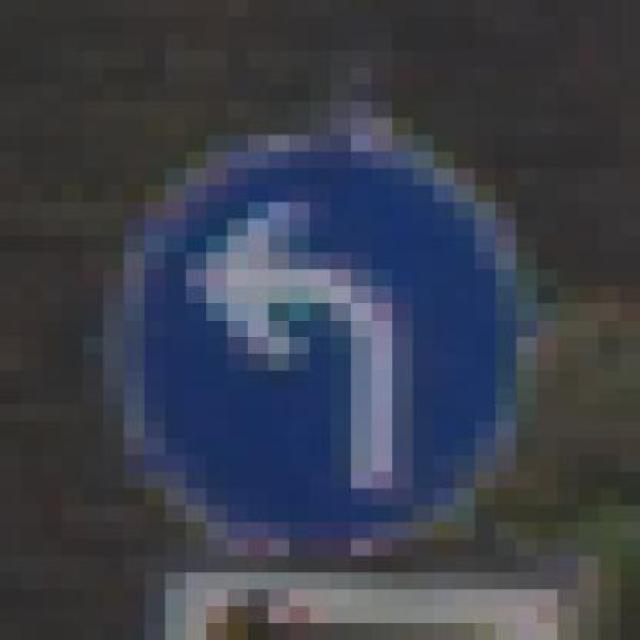Turn left ahead: (103, 67, 537, 590)
